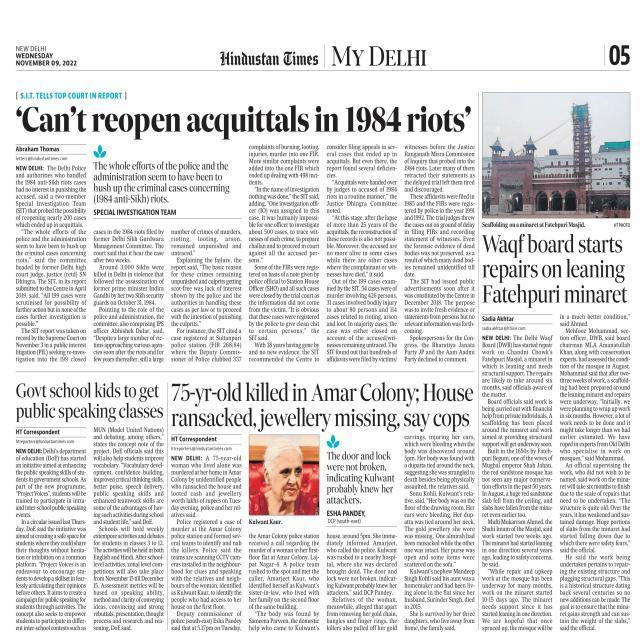Article: (10, 88, 478, 366), (480, 87, 630, 634), (169, 378, 478, 635), (12, 377, 166, 640)
Body: (558, 312, 632, 632), (481, 333, 555, 633), (403, 144, 476, 363), (326, 143, 398, 363), (247, 143, 319, 363), (91, 426, 166, 634), (14, 162, 89, 364), (402, 435, 476, 632), (14, 446, 88, 634), (170, 452, 242, 634), (92, 226, 166, 364), (170, 226, 243, 363), (326, 531, 398, 633), (248, 532, 320, 632)
Date: (14, 52, 78, 66)
Heading: (13, 102, 474, 142), (172, 381, 474, 433), (481, 230, 630, 309), (15, 380, 166, 424)
Highlights: (91, 160, 232, 204), (326, 450, 396, 506)
Image: (482, 91, 629, 219), (250, 435, 320, 514)
Name: (331, 42, 428, 68), (216, 48, 322, 67)
